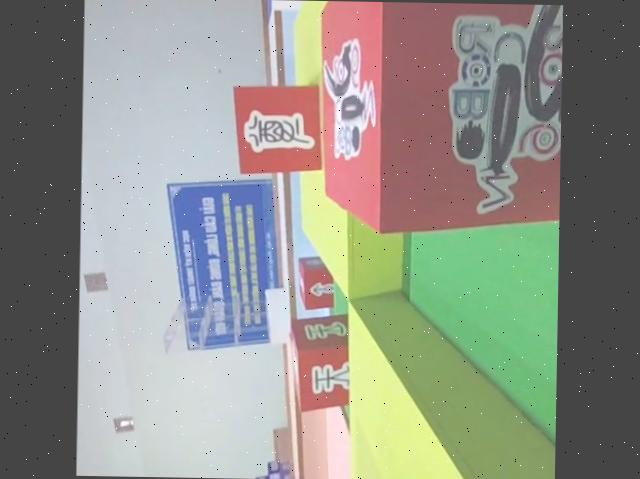R1: (314, 0, 563, 231)
R2 Fake: (229, 82, 324, 176)
R2 Real: (289, 310, 352, 411), (296, 252, 342, 310)
